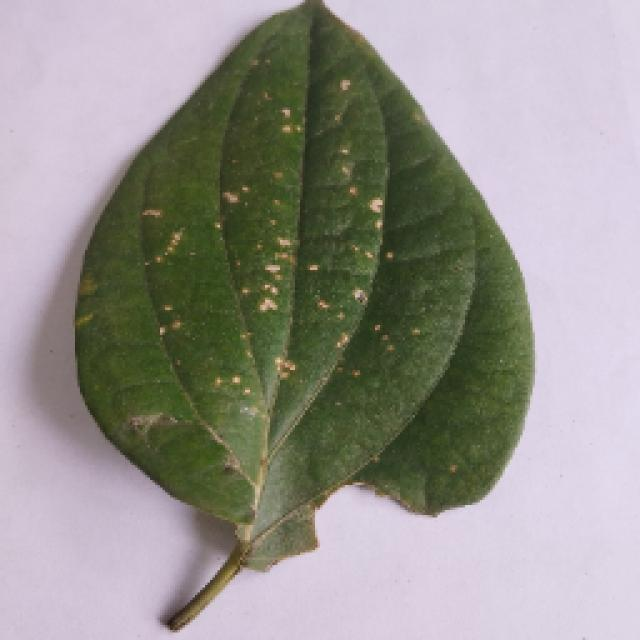pollu-disease: (40, 20, 560, 630)
